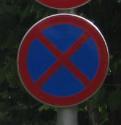No Parking: (17, 14, 110, 108)
